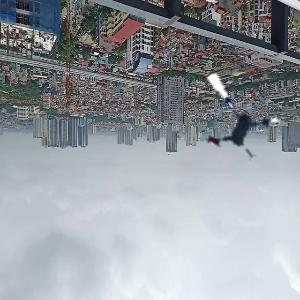drone: (178, 72, 280, 174)
